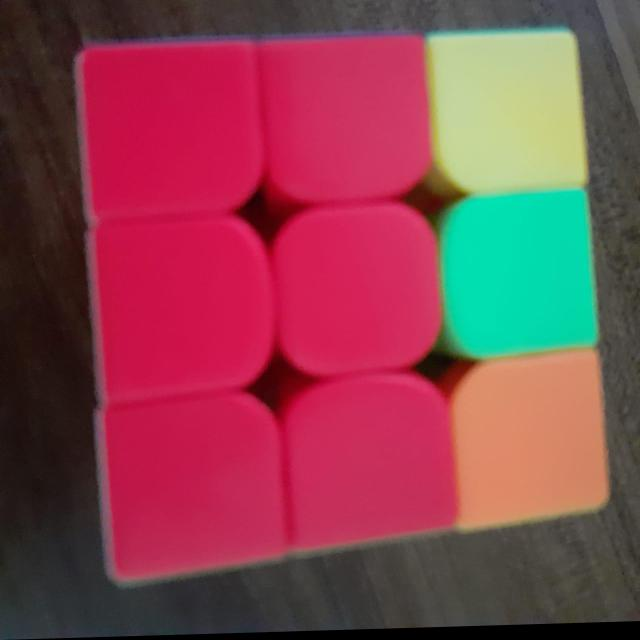Green: (440, 203, 596, 355)
Orange: (454, 365, 598, 517)
Red: (94, 221, 262, 387), (82, 52, 255, 209), (275, 215, 435, 371), (266, 45, 426, 201), (110, 411, 280, 553), (290, 395, 446, 536)
Yellow: (432, 37, 584, 187)
